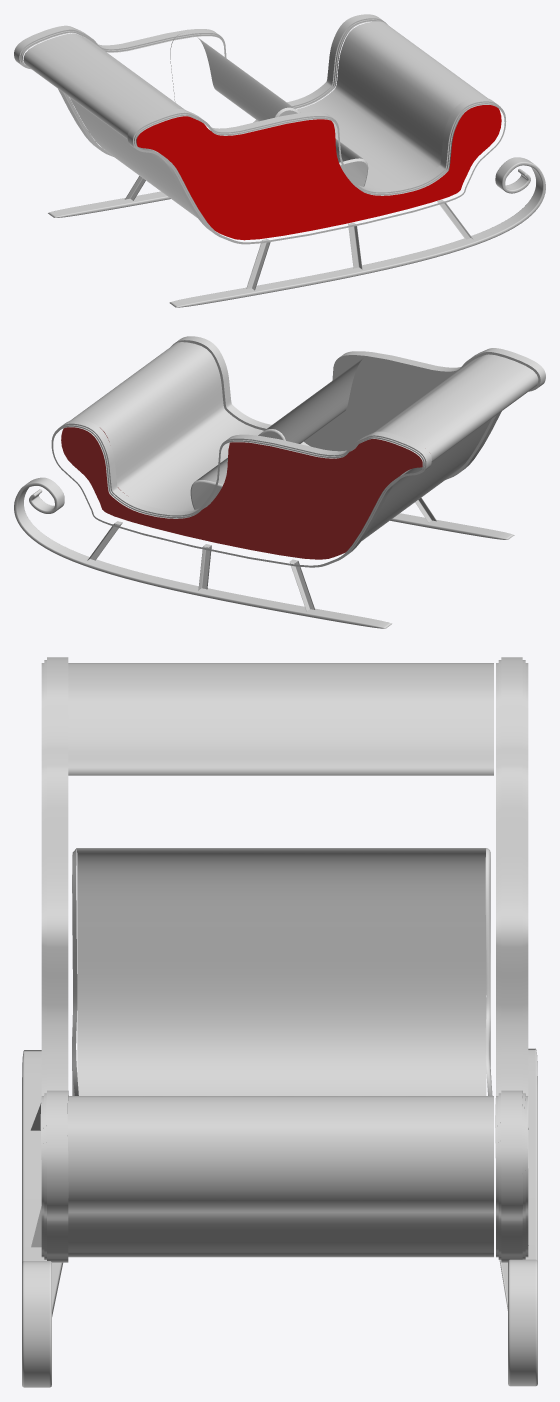
The model's file is slitta.glb.
The picture shows the model from 3 angles, top to bottom: view 1: azimuth 30°, elevation 25°; view 2: azimuth 150°, elevation 25°; view 3: azimuth 270°, elevation 25°; orthographic projection. The views are drawn at different scales.
Visible parts, largest first — view 1: Loft, Tappo_2_7, Loft.1_3, Stondatura, SOFA, Estrusione, Estrusione.1, Stondatura_1_1, Loft.1_1, Tappo_1, Loft.2_1, Loft.1_2; view 2: Loft, Tappo_1_7, Tappo, Loft.1_1, Stondatura_2_1, SOFA, Estrusione.1, Estrusione, Loft.1_3, Tappo_2, Loft.2, Loft.1; view 3: Loft, SOFA, Estrusione, Estrusione.1, Loft.1_3, Loft.1_1, Stondatura_2_1, Stondatura, Stondatura_1_1, Stondatura_2, Stondatura_1.
Part boxes in pixels (box(x1,y1,x2,y2)): Loft: box(23, 21, 487, 217); Tappo_2_7: box(136, 105, 501, 240); Loft.1_3: box(169, 157, 545, 307); Stondatura: box(133, 101, 506, 244); SOFA: box(197, 37, 362, 162); Estrusione: box(127, 97, 496, 231); Estrusione.1: box(14, 14, 382, 148); Stondatura_1_1: box(19, 18, 387, 156); Loft.1_1: box(48, 191, 170, 217); Tappo_1: box(279, 110, 367, 187); Loft.2_1: box(246, 240, 270, 290); Loft.1_2: box(348, 224, 362, 269); Loft: box(70, 342, 538, 541); Tappo_1_7: box(61, 427, 422, 559); Tappo: box(171, 340, 540, 479); Loft.1_1: box(14, 477, 391, 628); Stondatura_2_1: box(51, 423, 426, 567); SOFA: box(196, 358, 363, 484); Estrusione.1: box(62, 419, 431, 554); Estrusione: box(177, 336, 545, 471); Loft.1_3: box(390, 513, 514, 539); Tappo_2: box(191, 431, 282, 509); Loft.2: box(289, 561, 315, 611); Loft.1: box(198, 545, 211, 590); Loft: box(67, 663, 493, 1257); SOFA: box(77, 848, 486, 1095); Estrusione: box(46, 657, 68, 1262); Estrusione.1: box(500, 657, 522, 1262); Loft.1_3: box(22, 1050, 51, 1387); Loft.1_1: box(508, 1048, 537, 1386); Stondatura_2_1: box(522, 660, 528, 1259); Stondatura: box(40, 660, 46, 1259); Stondatura_1_1: box(495, 660, 501, 1259); Stondatura_2: box(485, 848, 492, 1095); Stondatura_1: box(72, 848, 78, 1095).
Bounding box in the file's own units: 3939 × 1863 × 2162.
